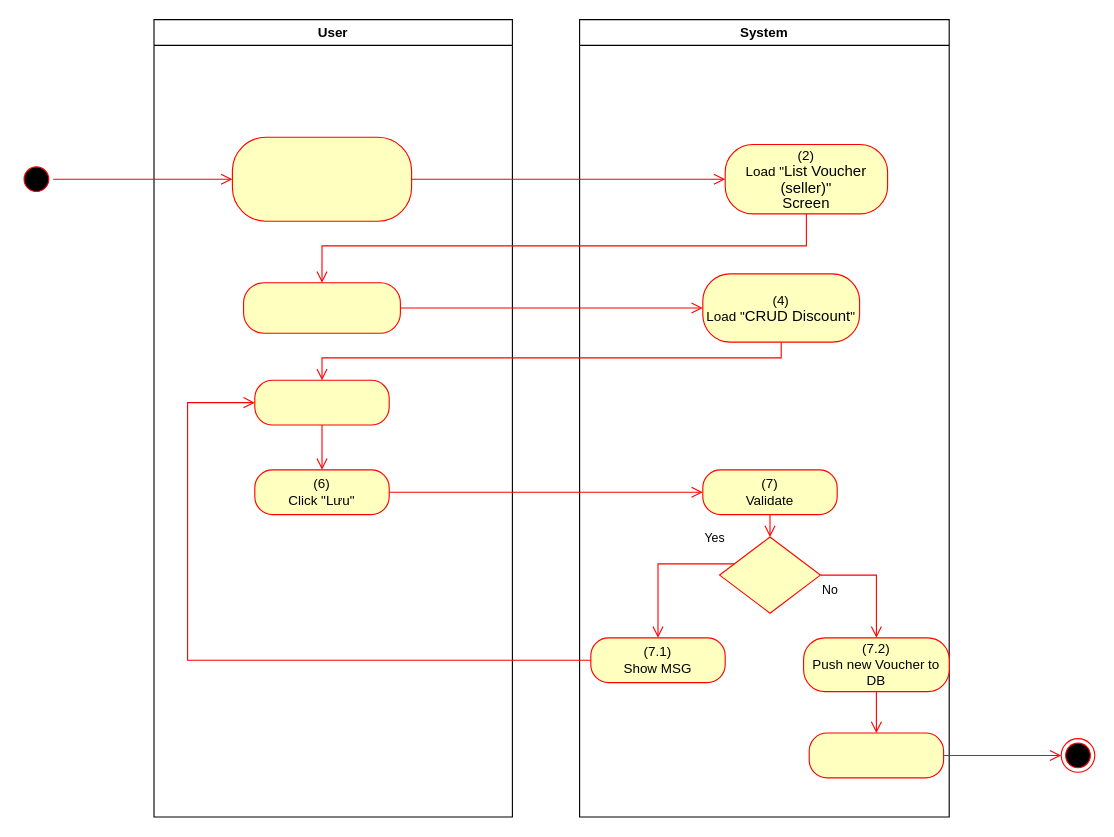
This 1114x837 diagram has some shape labels left out. The shapes that lost their labels are listed below. From the top down, each one's centre as x and y in pixels, then its label:
(x=321, y=178): (1) On "left menu" click " Discount/Voucher Management – CRUD Voucher "
(x=321, y=307): (3) Click button "Thêm voucher"
(x=321, y=402): (5) Giving input
(x=876, y=755): (8) Update UI
